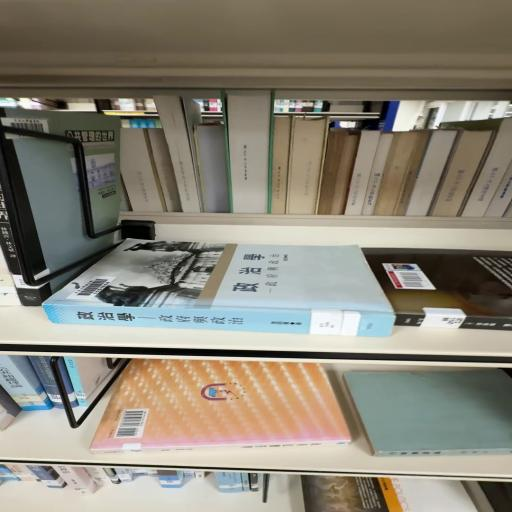flat: (44, 239, 394, 337), (91, 359, 351, 453)
